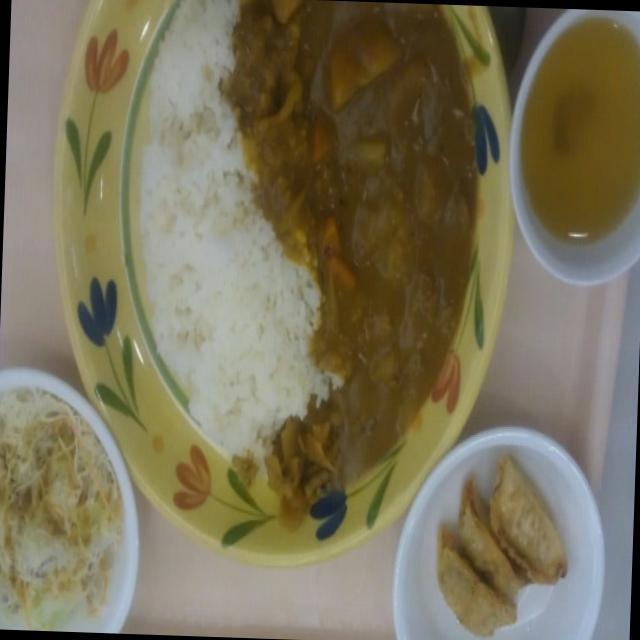Beef Curry: (250, 0, 478, 504)
